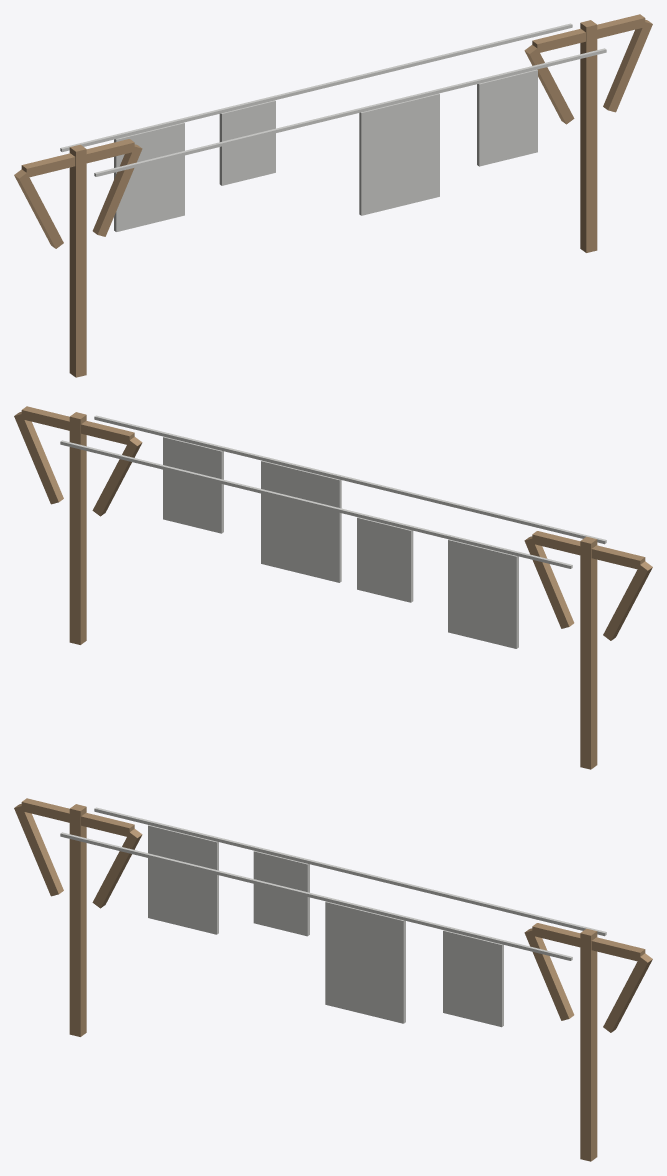
The model's file is lighthouse-and-rocky-coast-washing-line-frame-75846c98__36599.glb.
3 renders of one model, top to bottom at view 1: azimuth 30°, elevation 25°; view 2: azimuth 150°, elevation 25°; view 3: azimuth 330°, elevation 25°, orthographic.
Visible parts, largest first — view 1: washing-line-frame; view 2: washing-line-frame; view 3: washing-line-frame.
Part boxes in pixels (x1=…): washing-line-frame: x1=14, y1=14, x2=652, y2=377; washing-line-frame: x1=14, y1=406, x2=652, y2=769; washing-line-frame: x1=14, y1=798, x2=652, y2=1161.
Size of the model in its own units: 6.46 by 2.2 by 0.6399.
